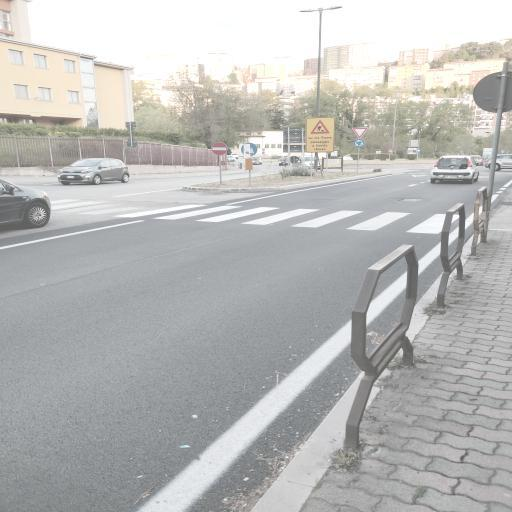crosswalk: (290, 198, 412, 238), (111, 192, 245, 226)
